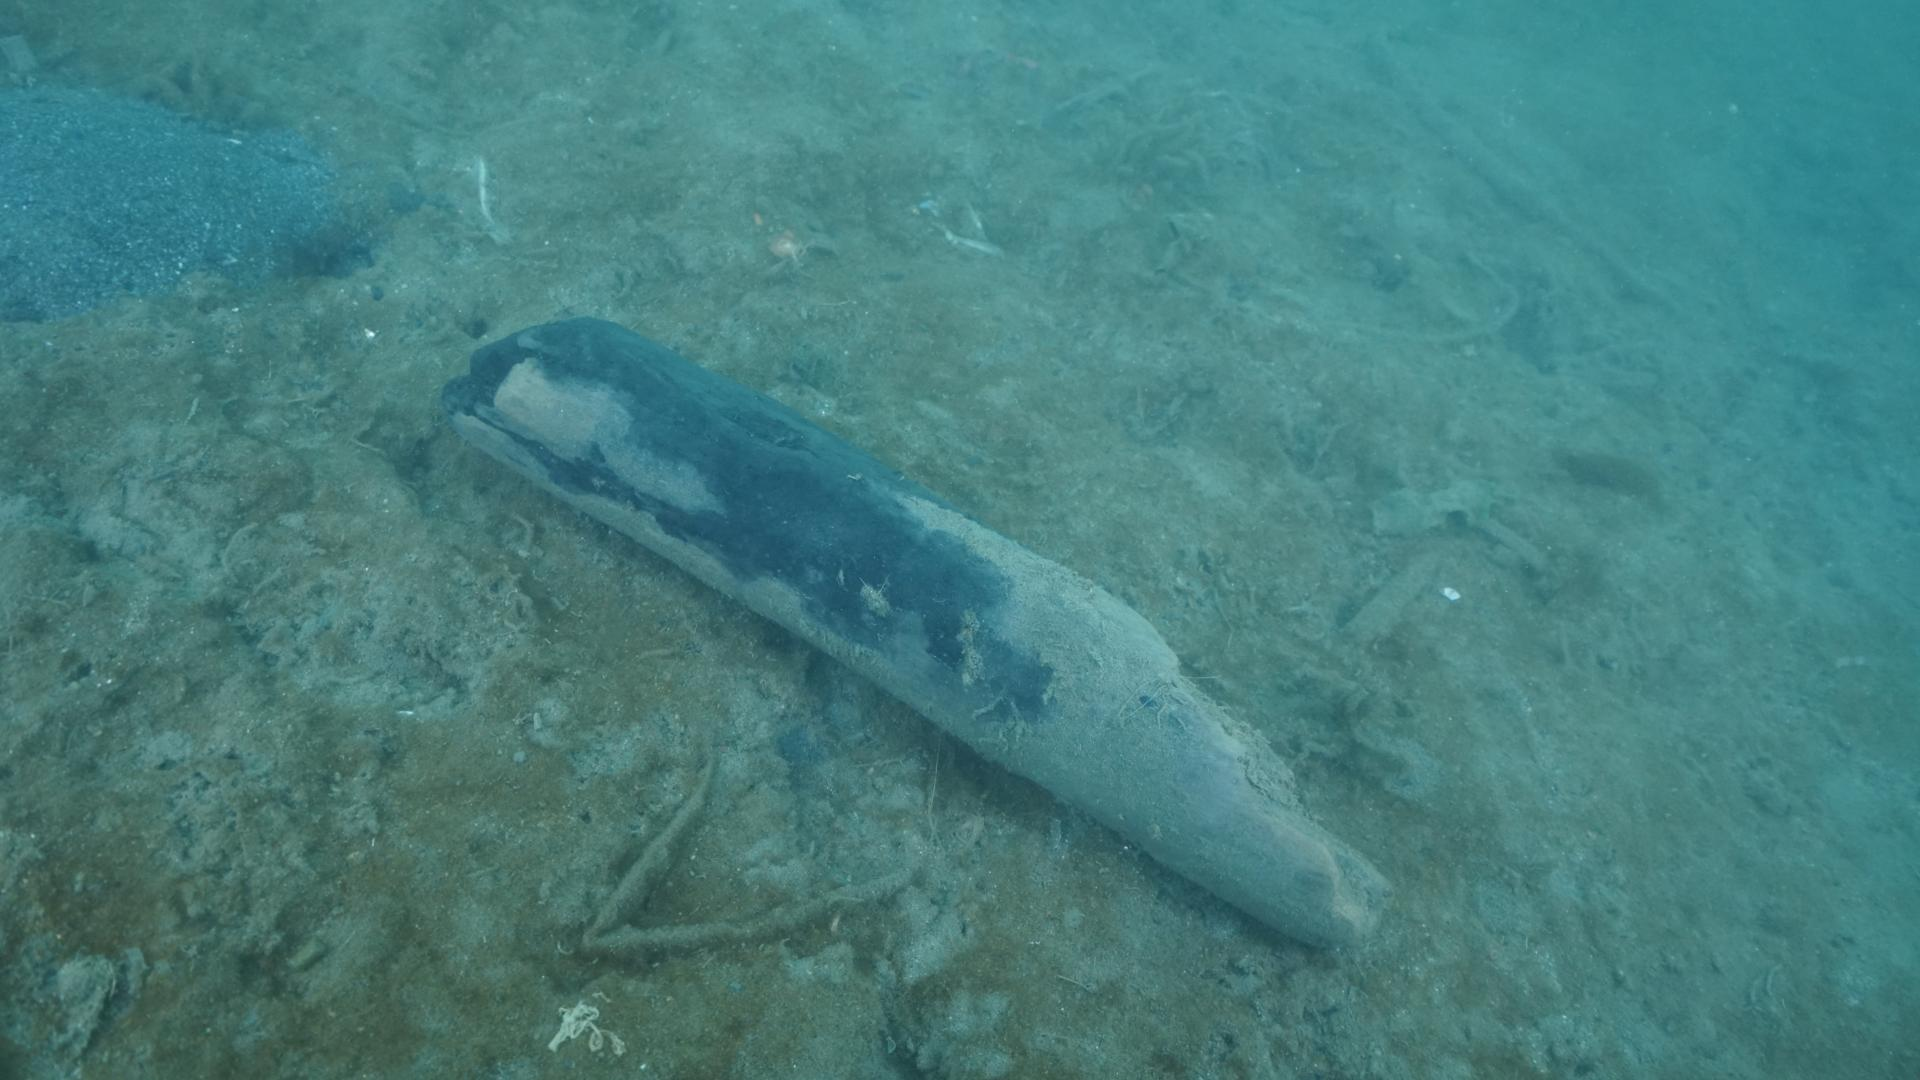wood: (425, 305, 1393, 971)
